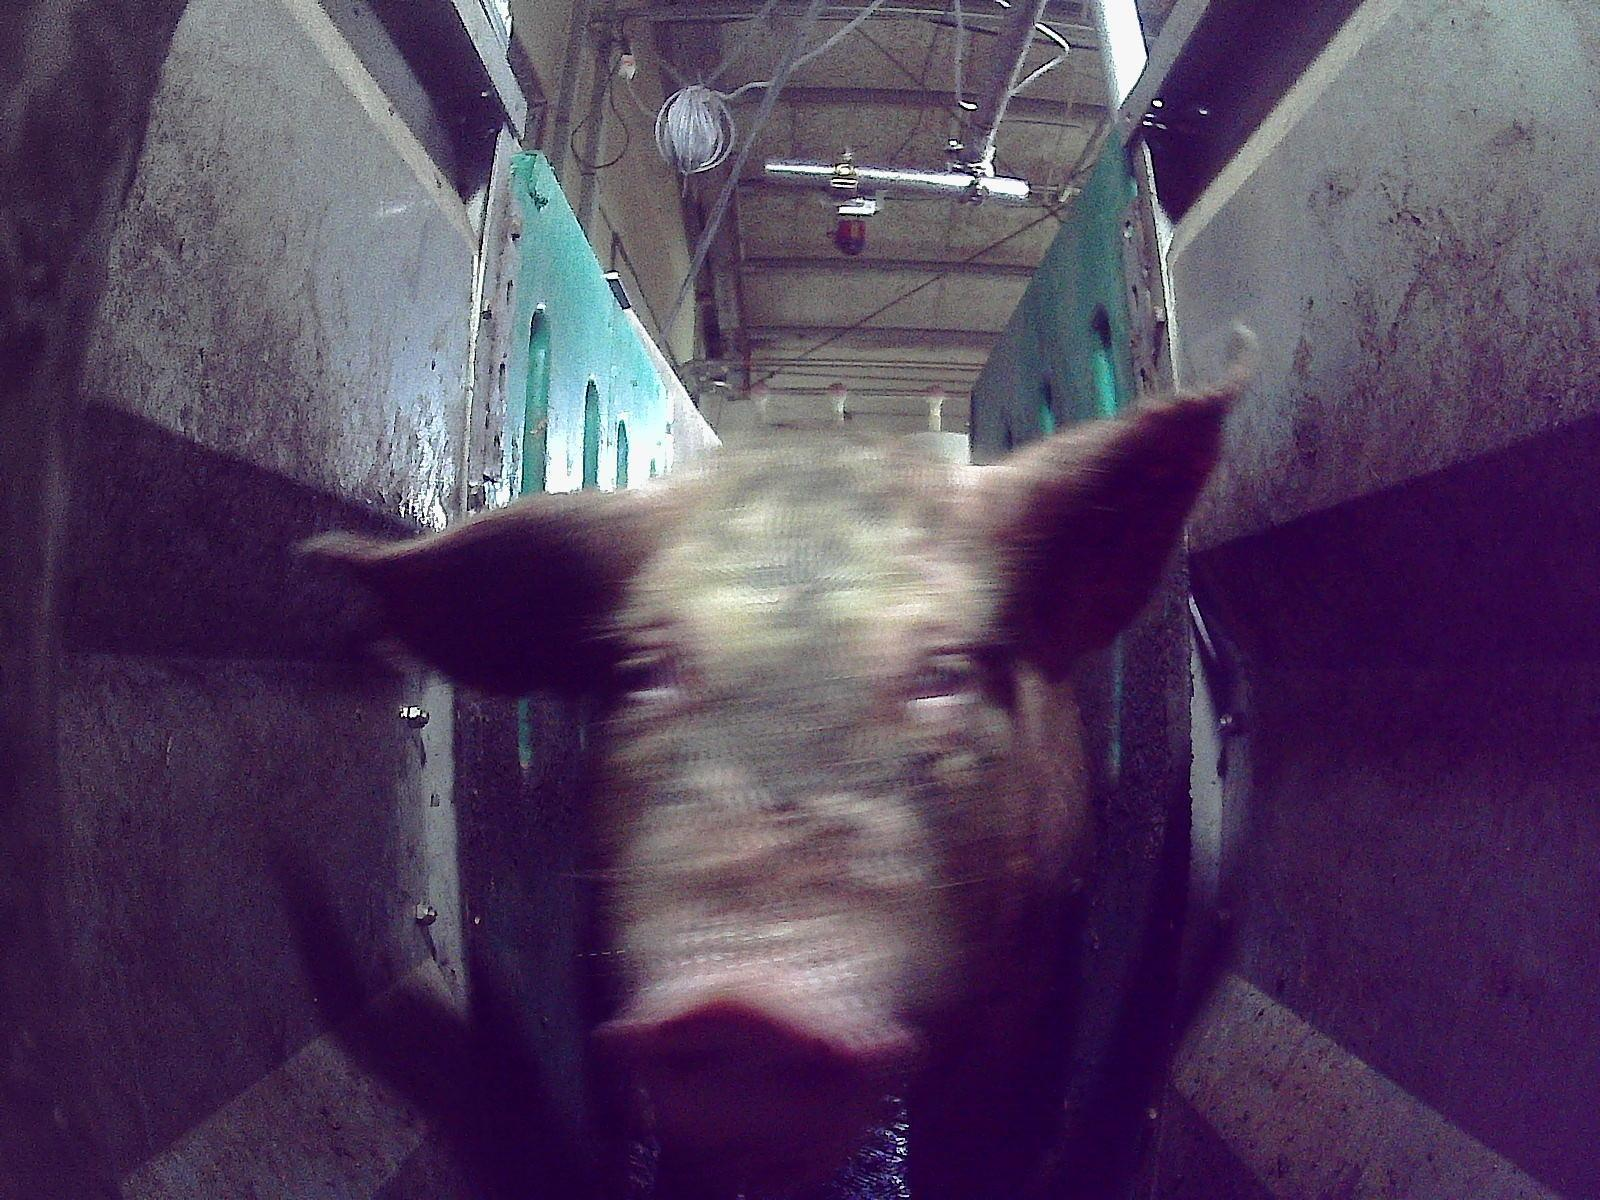Face: (585, 427, 1079, 1185)
